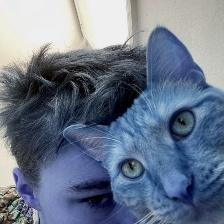kedo: (65, 28, 224, 224)
